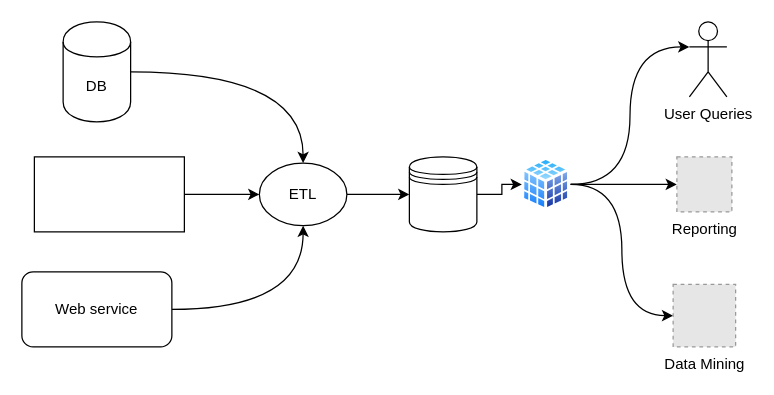
This 774x395 diagram has some shape labels left out. Grey dashed boxes stand in for pictures. Here are the shapes that lost their labels. From the top down, the centre of each, then its label:
At (108,194): "External Data Sources".
At (442,194): "DW".
At (545,183): "OLAP Server".
